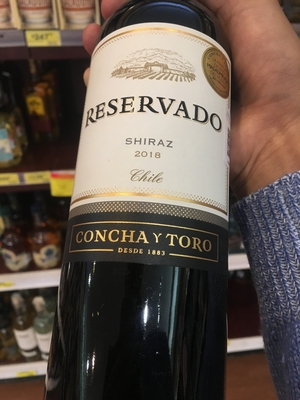reservado shiraz: (67, 6, 229, 399)
